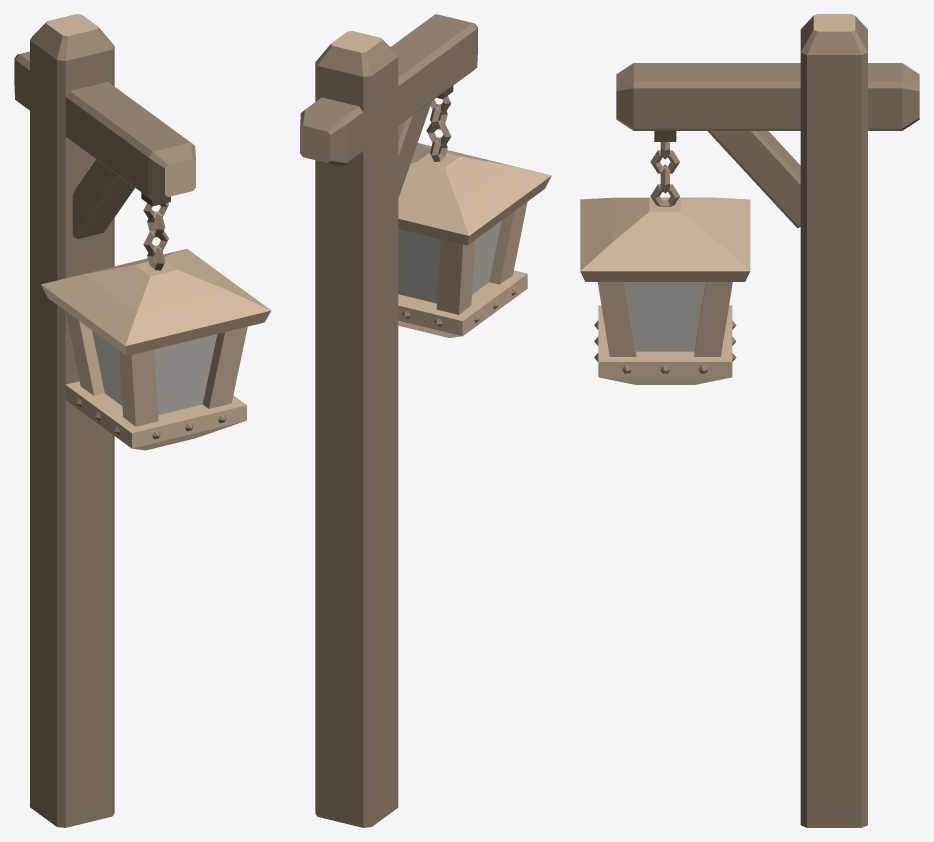
Rendered from lantern-post-f47665.glb.
The picture shows the model from 3 angles, left to right: view 1: azimuth 30°, elevation 25°; view 2: azimuth 150°, elevation 25°; view 3: azimuth 270°, elevation 25°; orthographic projection. The views are drawn at different scales.
Parts seen in each view (by area): view 1: post-frame, lantern-head; view 2: post-frame, lantern-head; view 3: post-frame, lantern-head.
Part boxes in pixels (<box>): post-frame: <box>14,14,195,827</box>; lantern-head: <box>41,203,271,450</box>; post-frame: <box>300,14,477,827</box>; lantern-head: <box>398,96,551,337</box>; post-frame: <box>616,14,919,827</box>; lantern-head: <box>580,142,750,384</box>.
Bounding box in the file's own units: 0.468 × 2.4 × 0.934.
